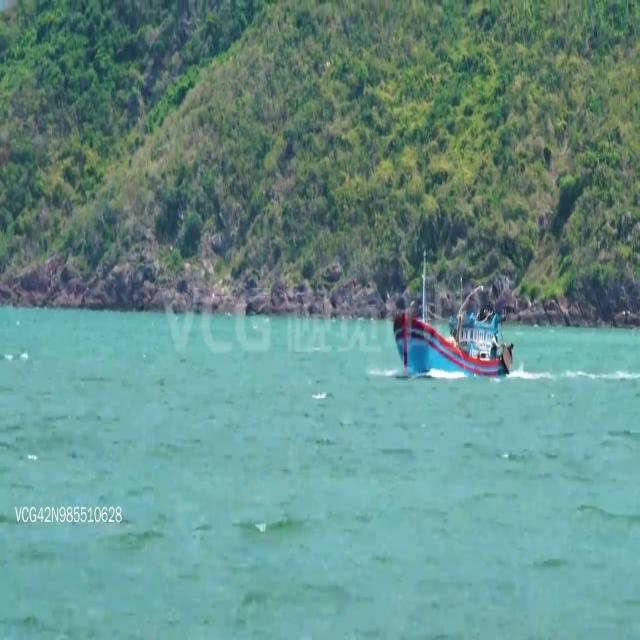fishing boat: (385, 259, 519, 375)
